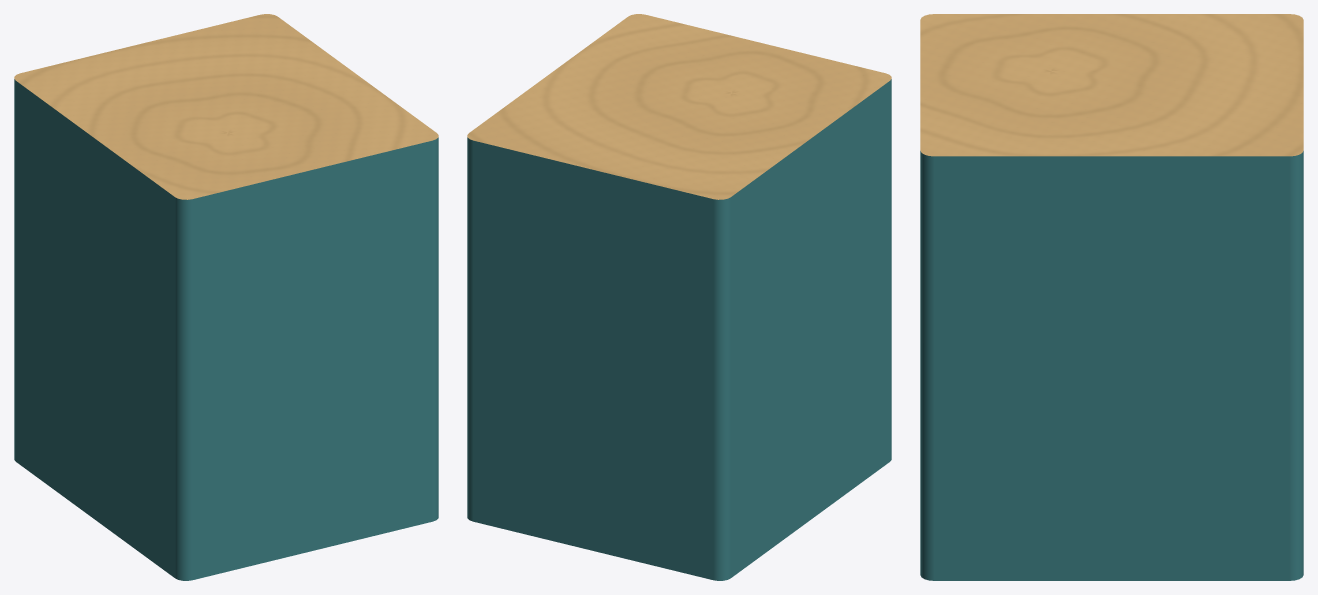
The model's file is source.glb.
3 renders of one model, left to right at view 1: azimuth 30°, elevation 25°; view 2: azimuth 150°, elevation 25°; view 3: azimuth 270°, elevation 25°, orthographic. The views are drawn at different scales.
Visible parts, largest first — view 1: Block_Paint_Front, Block_Painted_Body, Block_Wood_Bottom; view 2: Block_Paint_Back, Block_Painted_Body, Block_Wood_Bottom; view 3: Block_Paint_Left, Block_Wood_Bottom, Block_Paint_Front, Block_Paint_Back.
Part boxes in pixels (bbox=[...]): Block_Paint_Front: bbox=[182, 138, 438, 580]; Block_Painted_Body: bbox=[14, 79, 182, 580]; Block_Wood_Bottom: bbox=[14, 14, 438, 199]; Block_Paint_Back: bbox=[467, 138, 723, 580]; Block_Painted_Body: bbox=[723, 79, 891, 580]; Block_Wood_Bottom: bbox=[467, 14, 891, 199]; Block_Paint_Left: bbox=[924, 155, 1299, 580]; Block_Wood_Bottom: bbox=[920, 14, 1303, 156]; Block_Paint_Front: bbox=[920, 151, 924, 578]; Block_Paint_Back: bbox=[1299, 151, 1303, 578].
Bounding box in the file's own units: 0.095 × 0.132 × 0.108.
2 materials, 1 textured.
